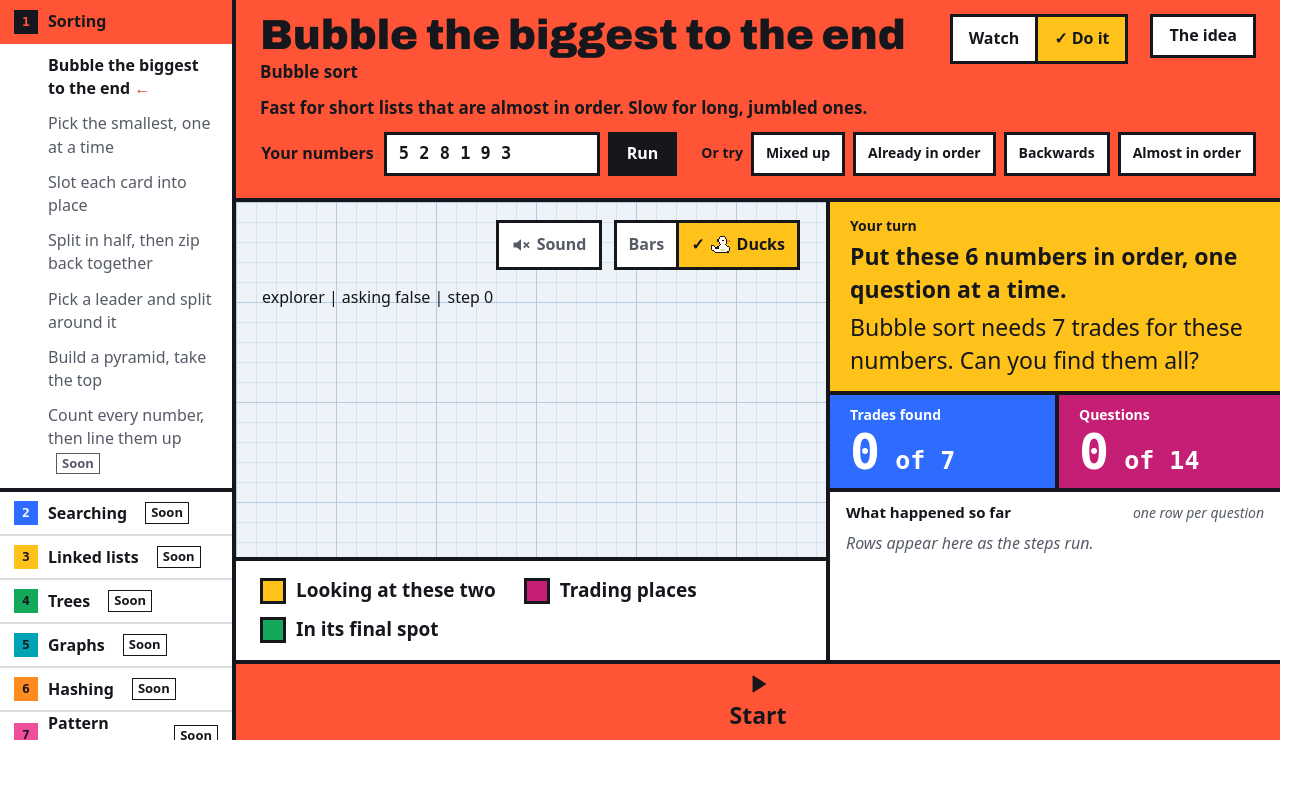
the workspace gives a character’s scene the level and the question › explorer, Do it: asking only while a question waits for the learner
Click the button "Start".
click(758, 702)  # box left=236, top=664, right=1280, bottom=740
Wait 1000 ms
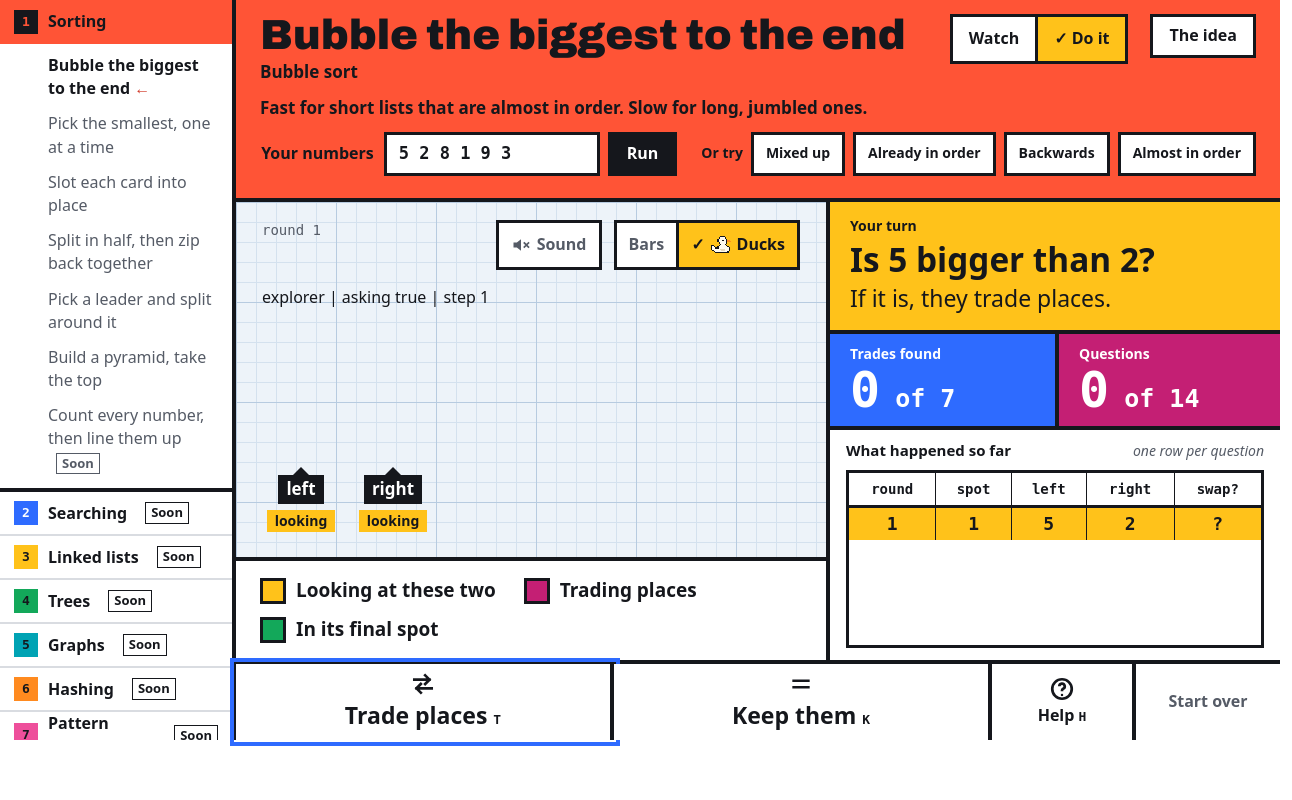
# The move is made (Help, then Show me): no question waits while the answer plays.
Type keys "h"
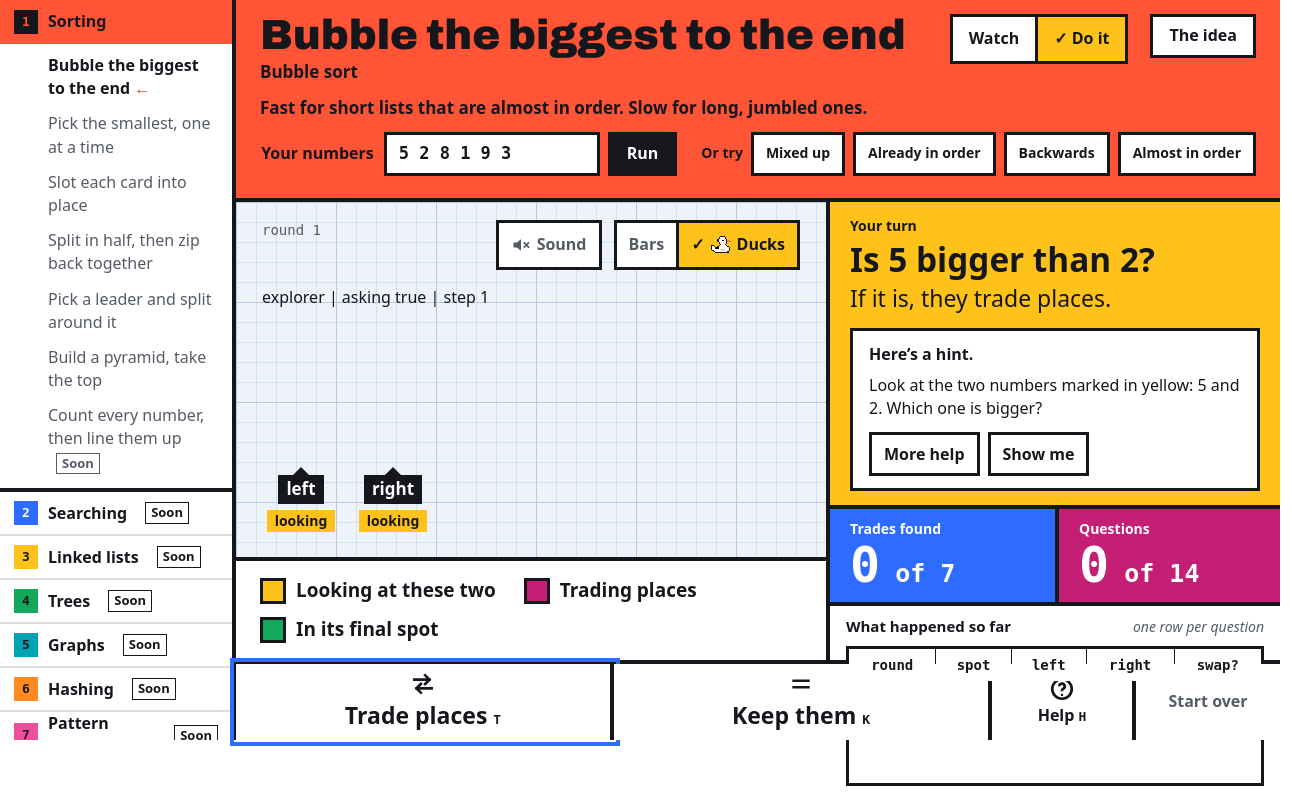
Click the button "Show me".
click(1038, 454)  # box left=988, top=432, right=1089, bottom=476
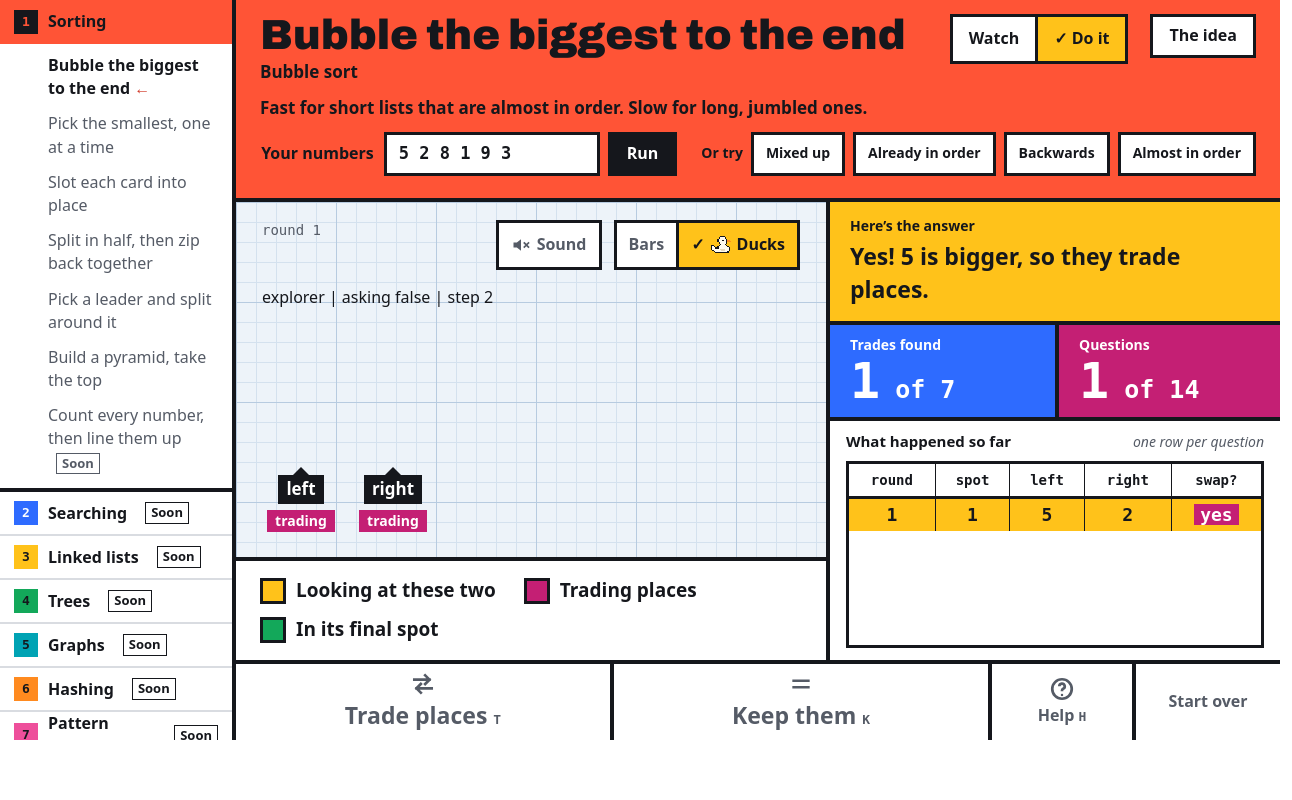
Check: the text with test id "scene-props" shows "asking false", box left=262, top=286, right=493, bottom=308
